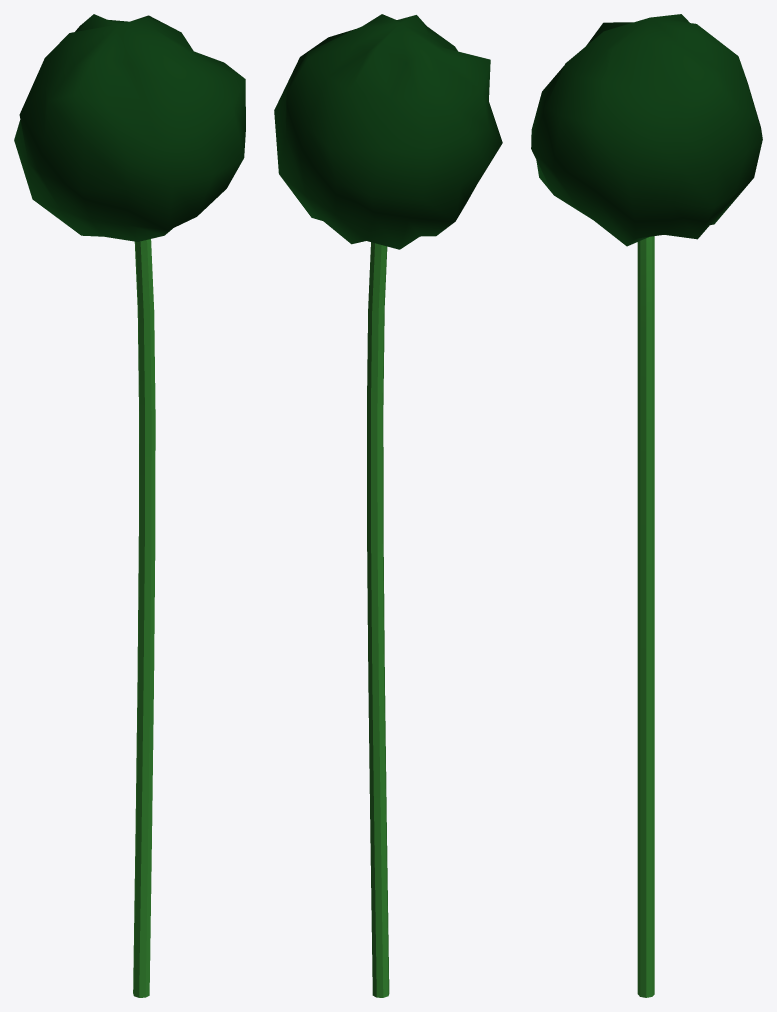
The model's file is Tree01_Mapa08_DBZ.FBX.
3 views of the same model, side by side, from view 1: azimuth 30°, elevation 25°; view 2: azimuth 150°, elevation 25°; view 3: azimuth 270°, elevation 25° (orthographic).
Visible parts, largest first — view 1: Sphere002, Line002; view 2: Sphere002, Line002; view 3: Sphere002, Line002.
Boxes of the visible parts, bbox=[...] form: Sphere002: bbox=[14, 14, 245, 241]; Line002: bbox=[133, 239, 155, 997]; Sphere002: bbox=[274, 14, 502, 249]; Line002: bbox=[367, 242, 389, 997]; Sphere002: bbox=[531, 14, 762, 246]; Line002: bbox=[637, 236, 654, 997].
Bounding box in the file's own units: 54.24 × 259 × 56.23.
